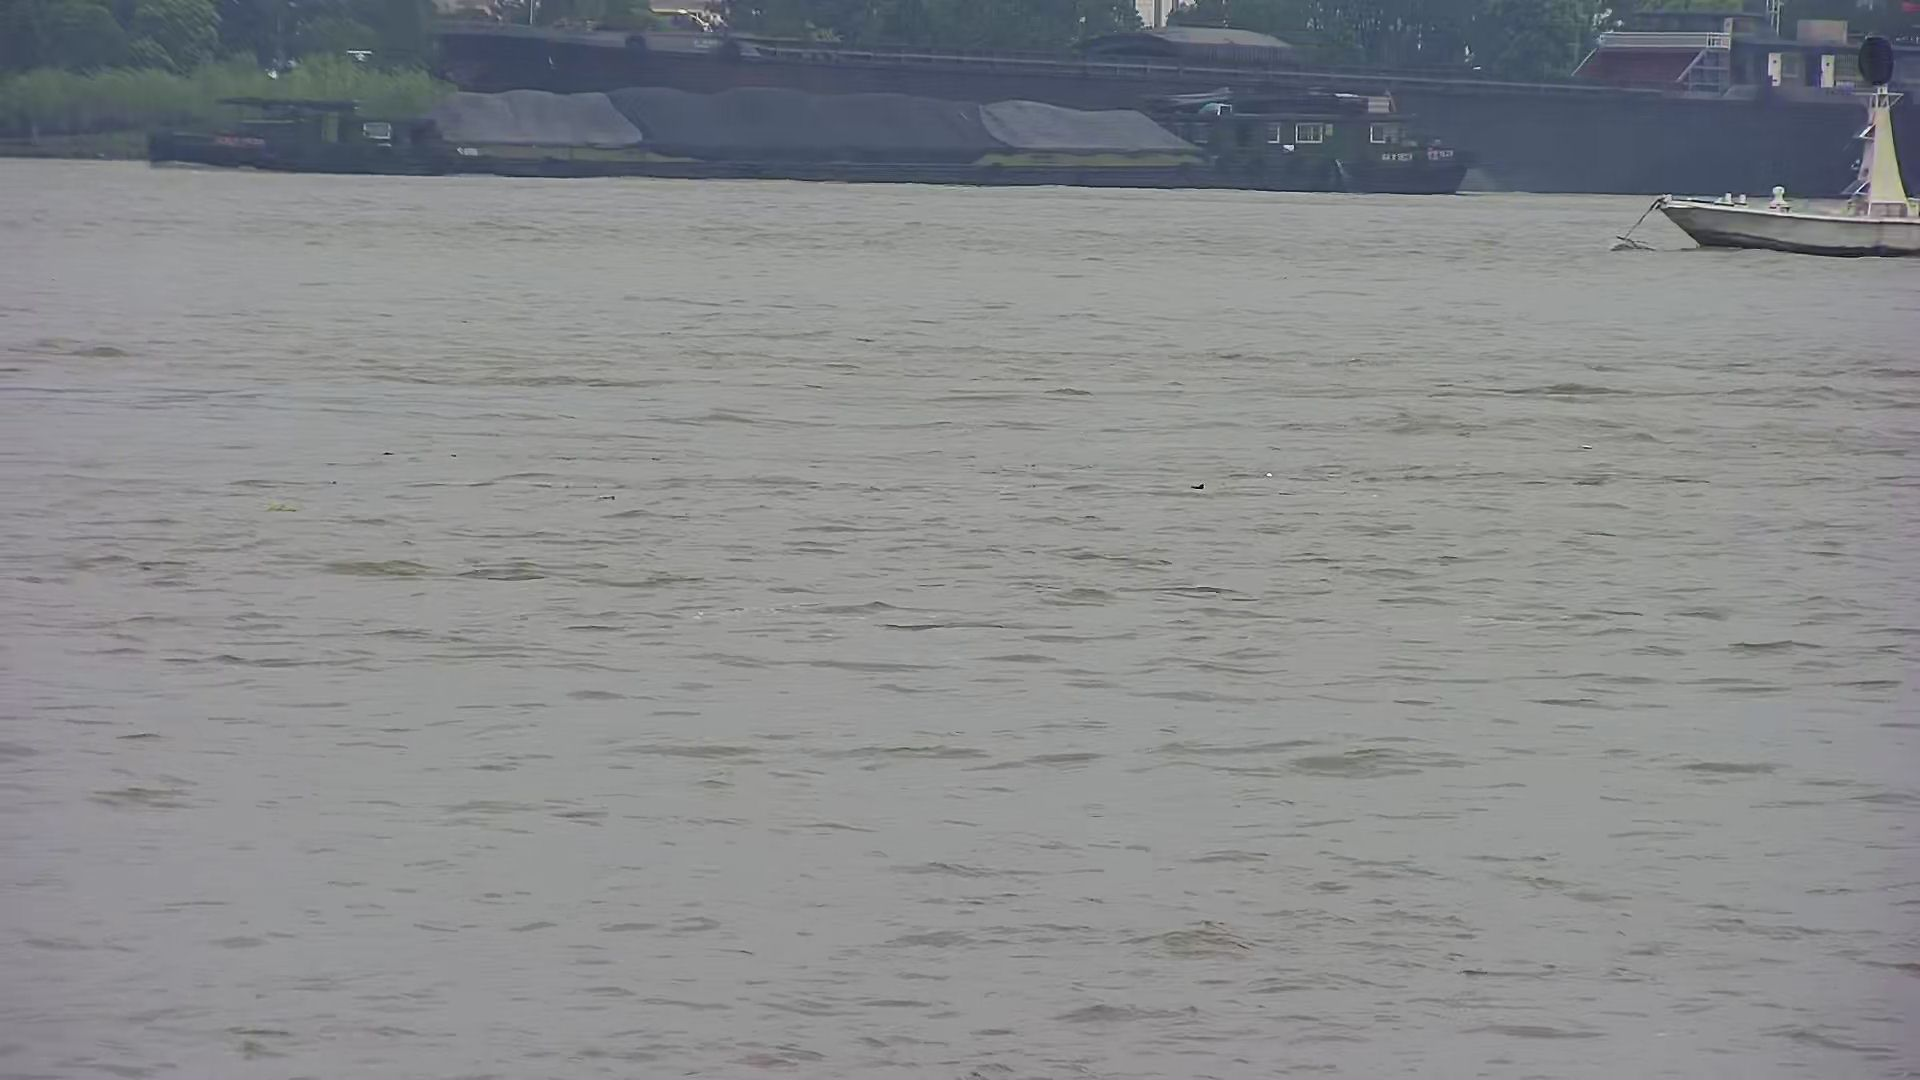boat: (1636, 30, 1920, 258)
ship: (442, 8, 1908, 200), (161, 76, 1495, 208)
